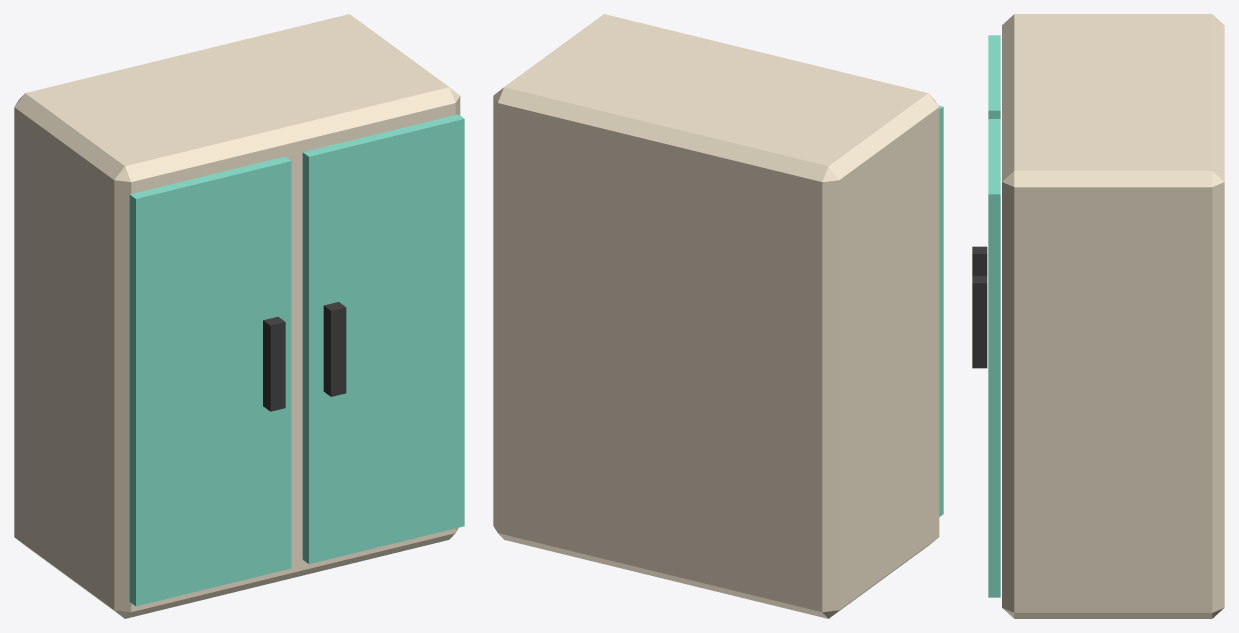
3 renders of one model, left to right at view 1: azimuth 30°, elevation 25°; view 2: azimuth 150°, elevation 25°; view 3: azimuth 270°, elevation 25°, orthographic.
Parts seen in each view (by area): view 1: Equipment case, Door, Door.001, Handle.001, Handle; view 2: Equipment case, Door; view 3: Equipment case, Door.001, Handle.001, Door, Handle.
Boxes of the visible parts, x1,y1,x2,y2 form: Equipment case: (14, 14, 460, 618); Door: (129, 156, 291, 606); Door.001: (302, 114, 464, 563); Handle.001: (323, 302, 346, 396); Handle: (263, 316, 285, 411); Equipment case: (493, 14, 939, 618); Door: (938, 105, 943, 516); Equipment case: (1002, 14, 1224, 618); Door.001: (988, 119, 1000, 597); Handle.001: (972, 276, 987, 368); Door: (988, 35, 1000, 118); Handle: (972, 246, 987, 275).
Bounding box in the file's own units: 0.8 × 1 × 0.51.
1 material, 1 textured.
